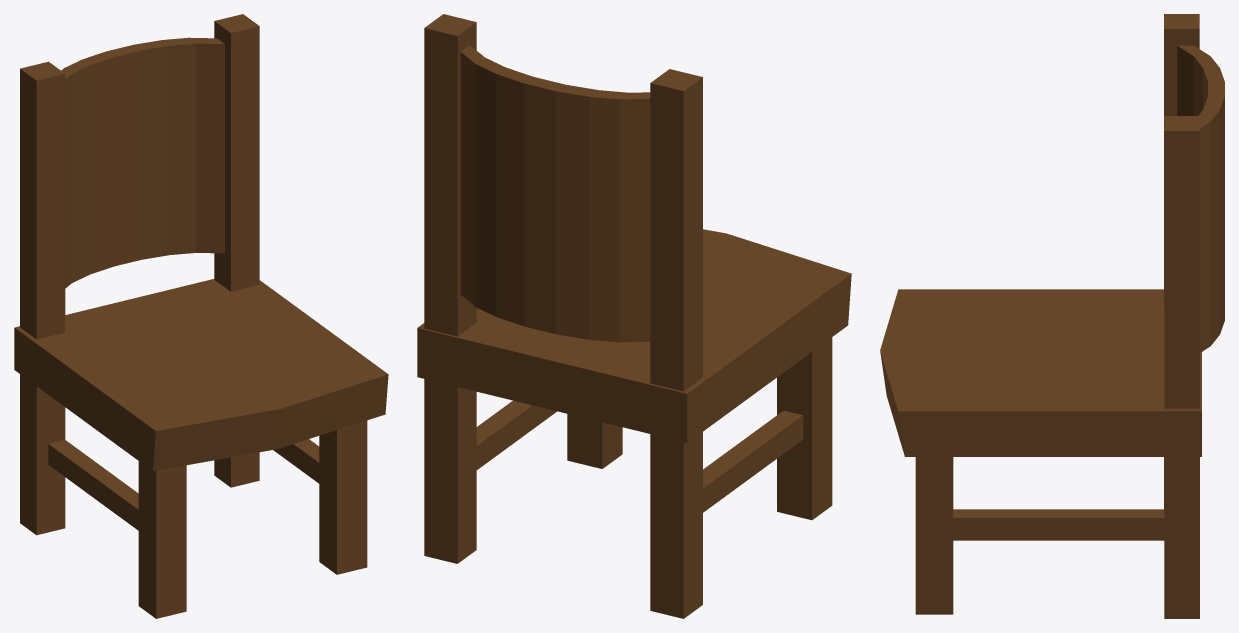
File: chair.fbx
The picture shows the model from 3 angles, left to right: view 1: azimuth 30°, elevation 25°; view 2: azimuth 150°, elevation 25°; view 3: azimuth 270°, elevation 25°; orthographic projection. The views are drawn at different scales.
Parts seen in each view (by area): view 1: chaise; view 2: chaise; view 3: chaise.
Boxes of the visible parts, box(x1,y1,x2,y2) form: chaise: box(14, 14, 388, 618); chaise: box(417, 14, 851, 618); chaise: box(880, 14, 1224, 618).
Size of the model in its own units: 38.99 by 72.8 by 46.61.
